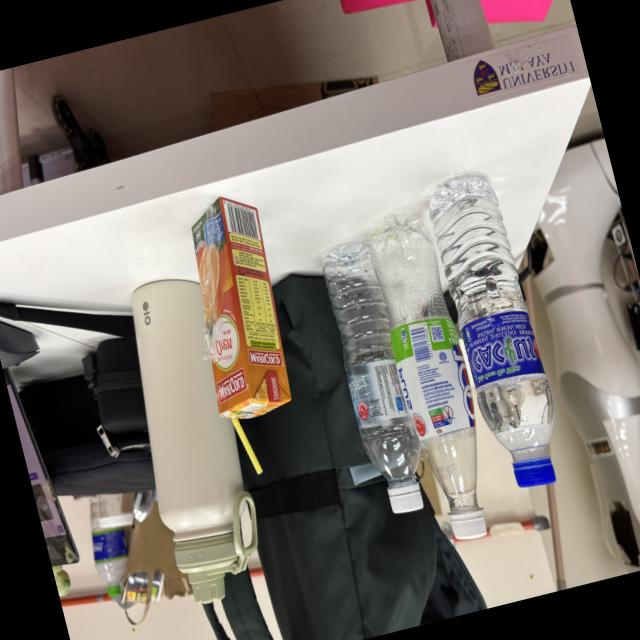drink_carton: (158, 179, 332, 489)
plastic_bottle: (410, 152, 584, 526), (354, 196, 514, 554), (301, 218, 451, 532)
